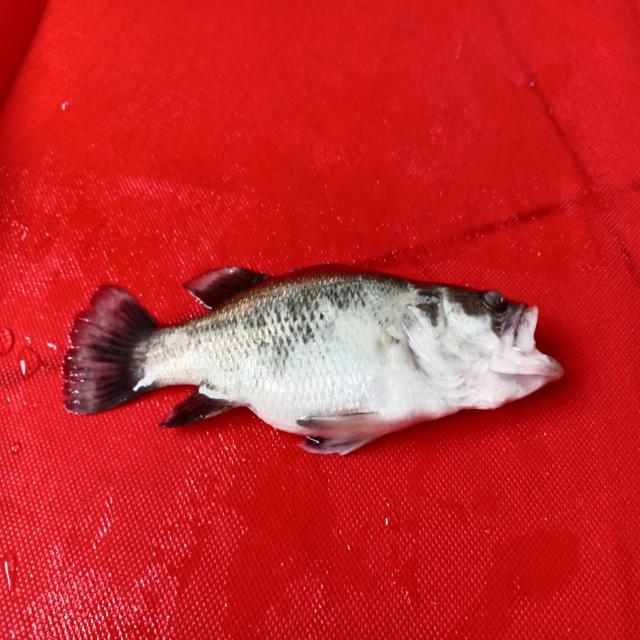ikan: (37, 240, 580, 468)
